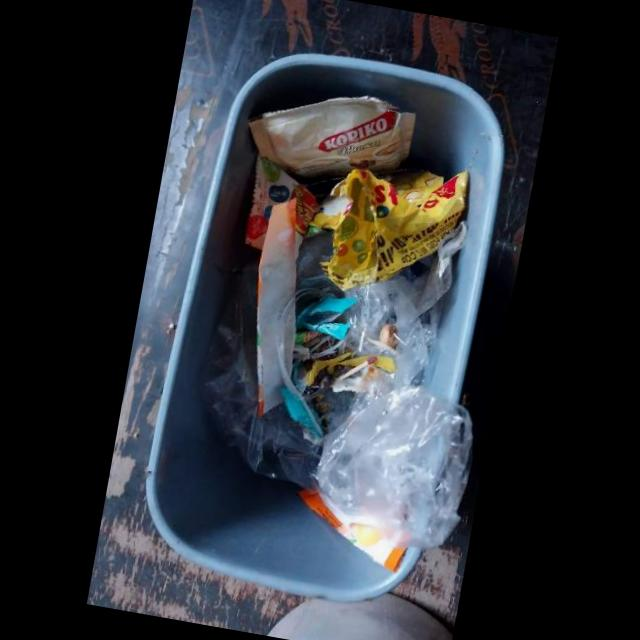bao_bi_thuc_pham: (309, 169, 470, 291), (250, 96, 413, 180), (298, 490, 407, 573), (256, 198, 296, 418), (244, 155, 317, 260), (295, 297, 357, 340), (280, 386, 322, 437), (295, 330, 322, 344)
tui_ni_long: (315, 386, 473, 548), (204, 364, 323, 489)
